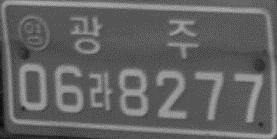0: (17, 61, 48, 113)
2: (154, 69, 188, 120)
6: (52, 63, 84, 113)
7: (193, 70, 224, 121), (233, 72, 263, 124)
8: (117, 67, 149, 118)
광주_D: (68, 16, 201, 59)
라: (87, 70, 113, 111)
영: (17, 15, 51, 51)
